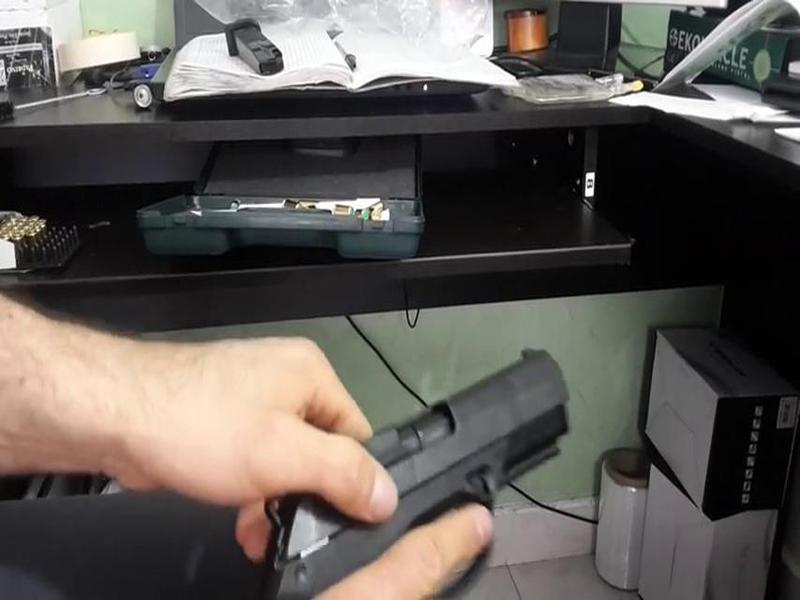Pistola: (227, 332, 584, 600)
